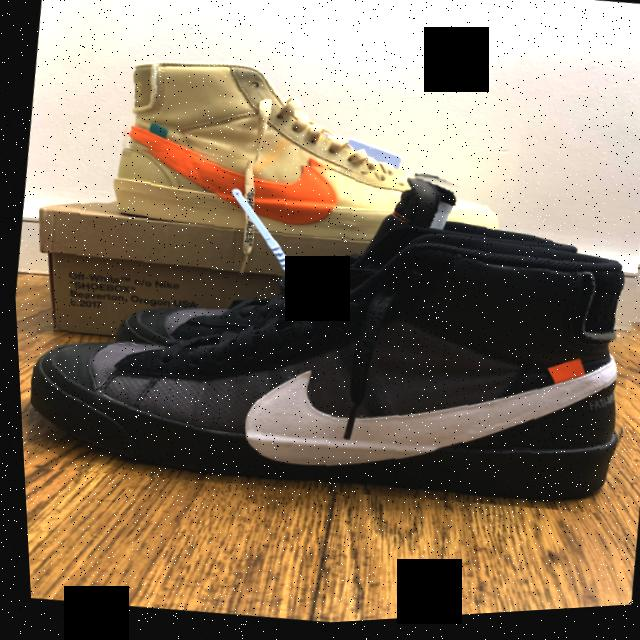shoe: (6, 115, 640, 550), (98, 28, 533, 284)
